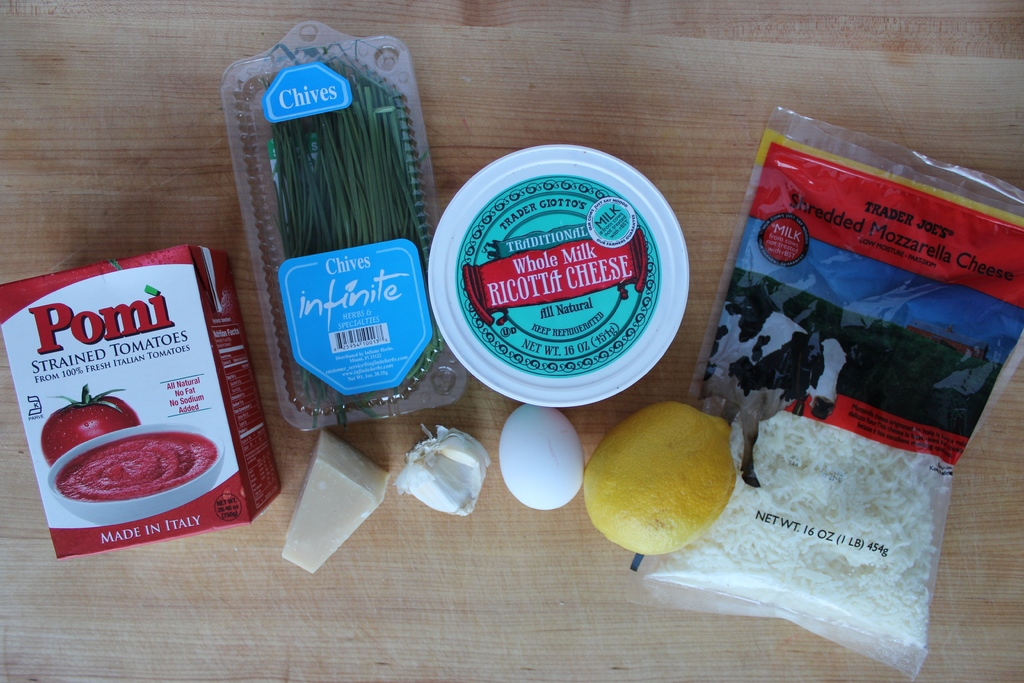Tomato: (39, 380, 138, 465)
